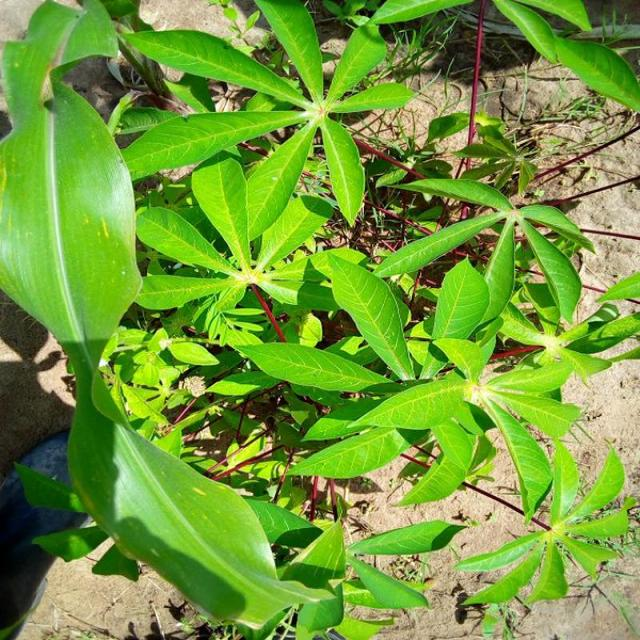cassava leaf: (0, 1, 345, 636)
